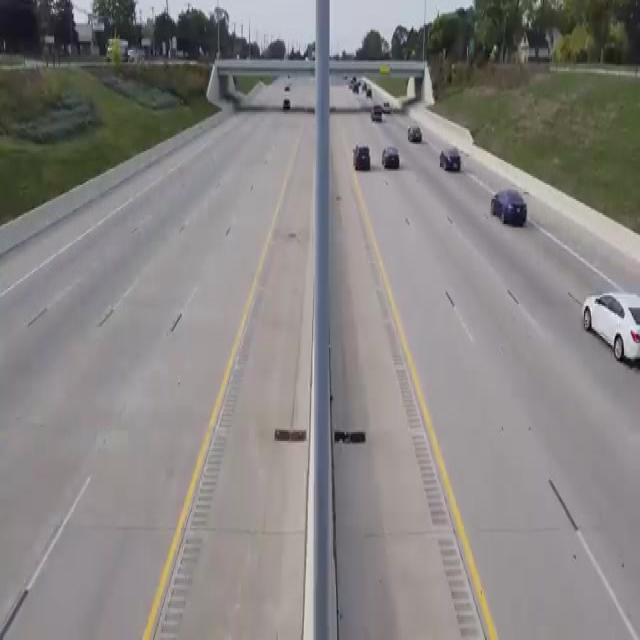car: (580, 281, 640, 372), (486, 182, 543, 231), (440, 141, 471, 187), (351, 140, 378, 188), (379, 145, 406, 185), (371, 102, 387, 133), (382, 96, 400, 122), (408, 125, 428, 148), (281, 96, 297, 117)
